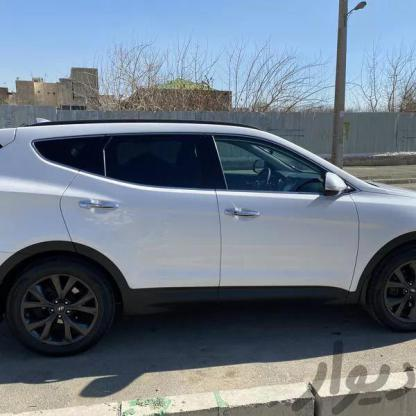car: (0, 114, 415, 354)
